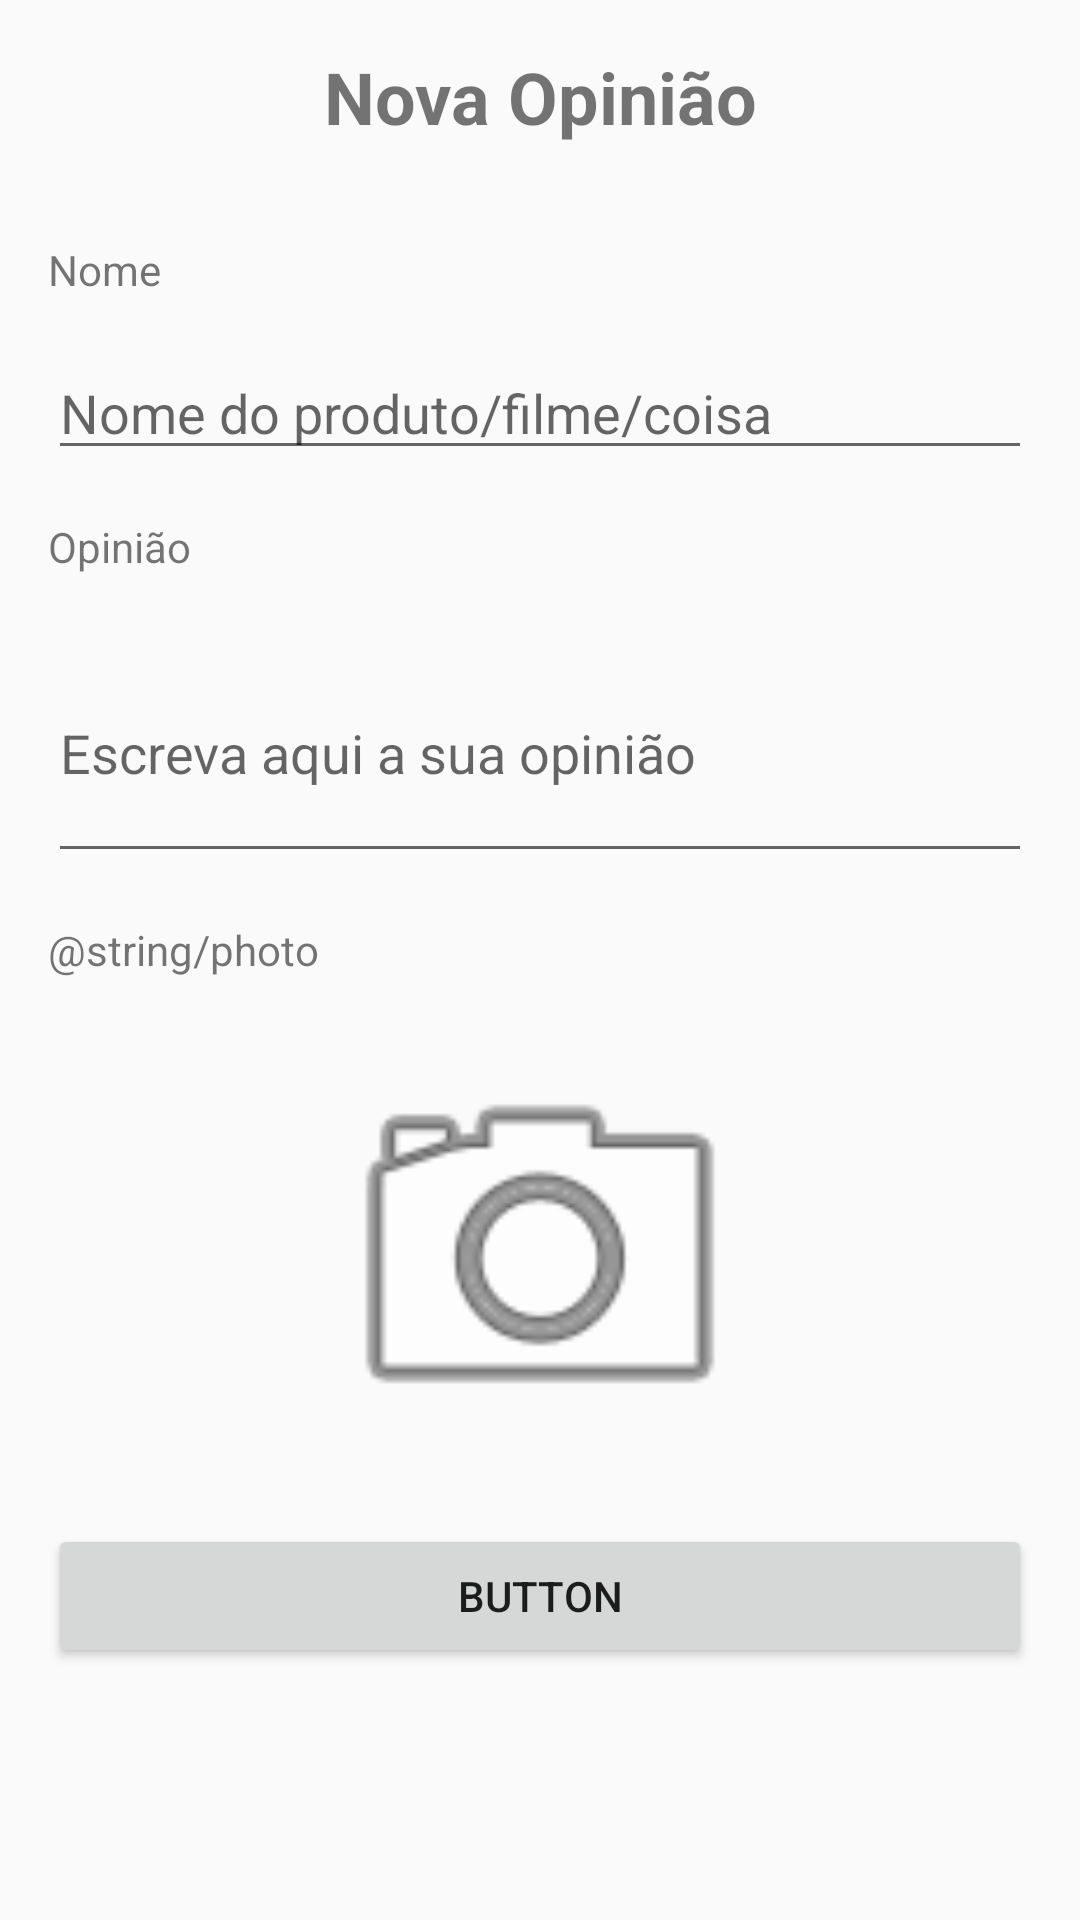

Named icons in this screenshot (1080 × 1920) and their bounding boxes, [left=x1, top=y1, right=x2, bottom=y2]:
camera: [left=366, top=1105, right=714, bottom=1383]
